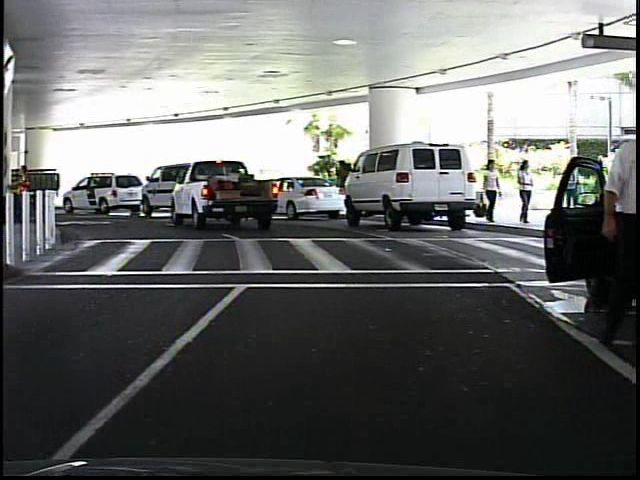person: (585, 108, 640, 340), (509, 158, 534, 227), (332, 155, 354, 216), (478, 157, 497, 226)
